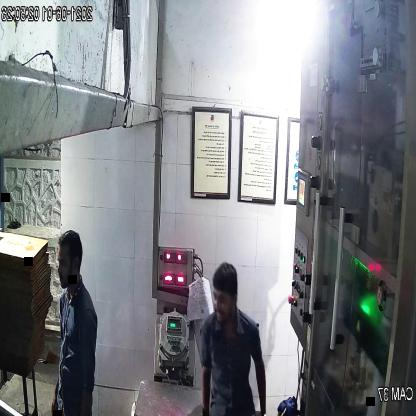no_goggles: (207, 284, 240, 311), (55, 249, 85, 274)
